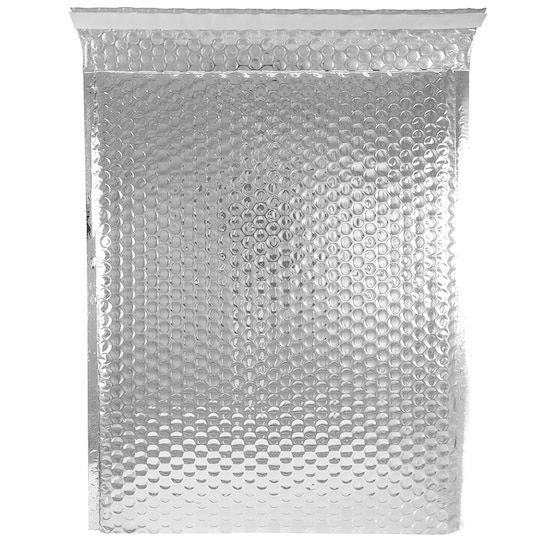PVC: (35, 0, 506, 540)
